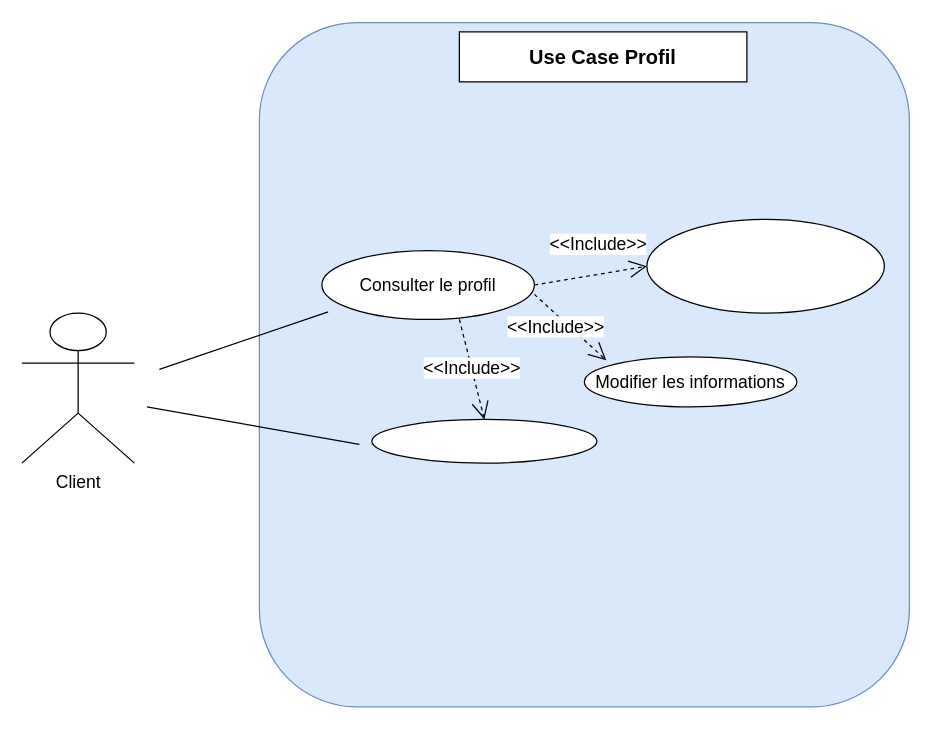
Image size: 931x729. Some labels were removed from this diagram. The centre of each missing label's shape, as x and y in pixels:
"consulter l'historique de commandes" goes at (765,265).
"Supprimer son compte" goes at (484,440).
